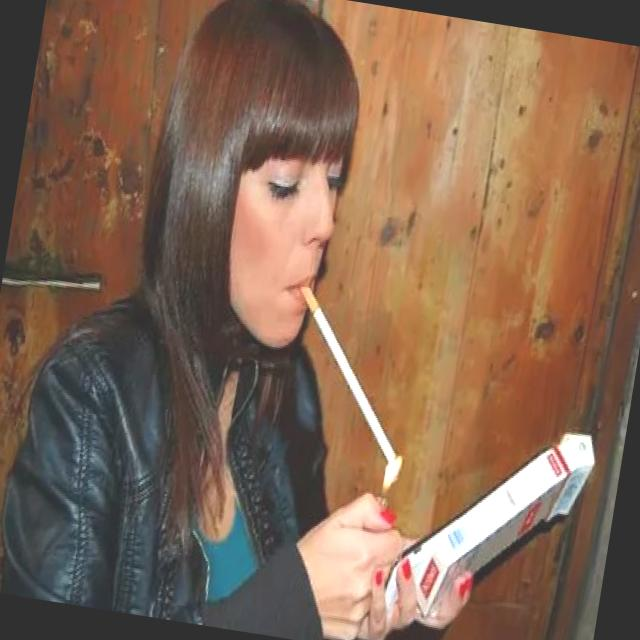cigarette: (276, 279, 427, 472)
